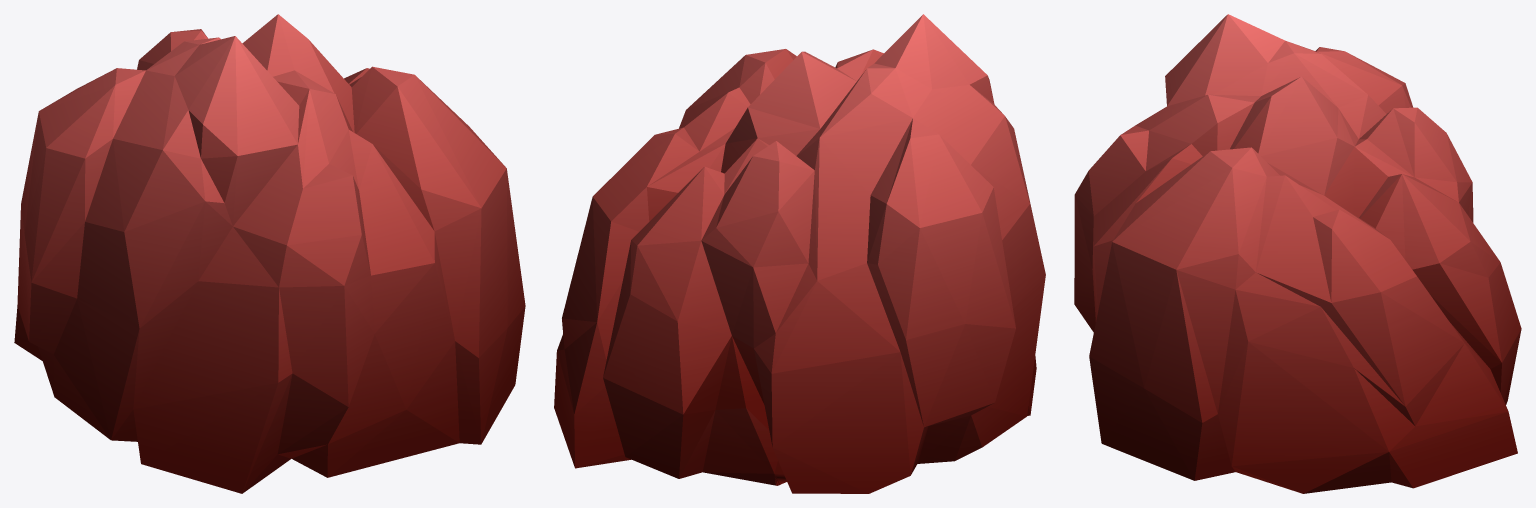
The model's file is Crystal_Formation_02.FBX.
3 views of the same model, side by side, from view 1: azimuth 30°, elevation 25°; view 2: azimuth 150°, elevation 25°; view 3: azimuth 270°, elevation 25° (orthographic). The views are drawn at different scales.
Visible parts, largest first — view 1: Merged_PM3D_rocks3.036; view 2: Merged_PM3D_rocks3.036; view 3: Merged_PM3D_rocks3.036.
Boxes of the visible parts, box(x1,y1,x2,y2) form: Merged_PM3D_rocks3.036: box(14, 14, 525, 493); Merged_PM3D_rocks3.036: box(554, 14, 1045, 493); Merged_PM3D_rocks3.036: box(1074, 14, 1521, 493).
Size of the model in its own units: 480 by 418 by 477.
